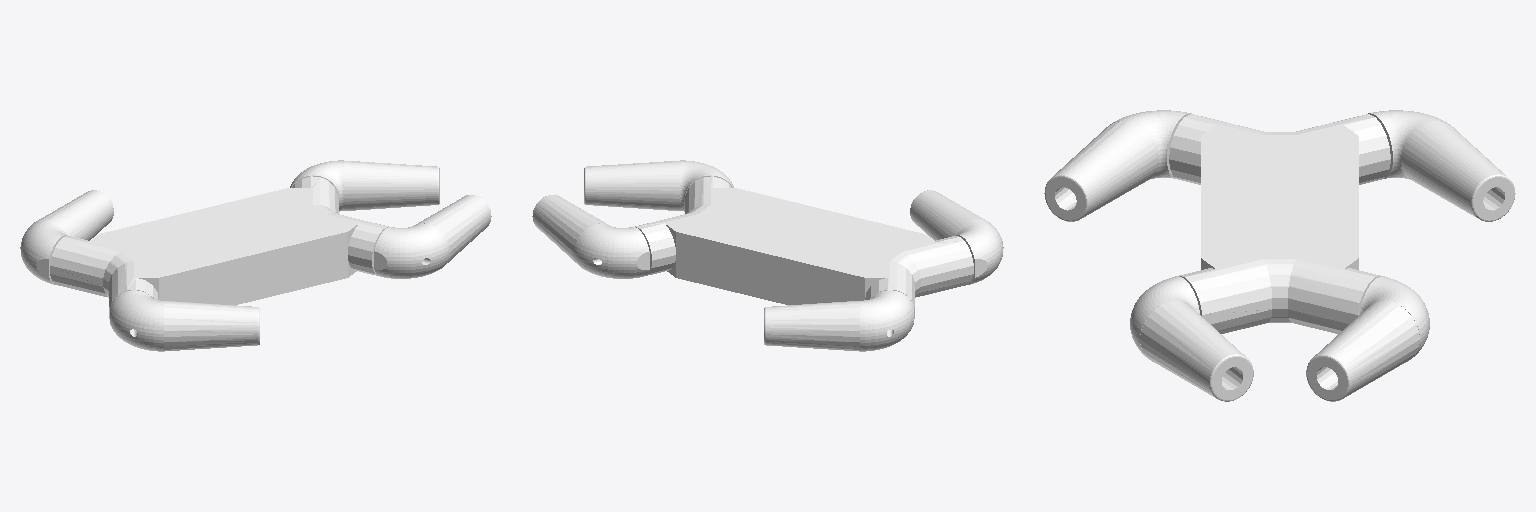
URDF robot description (30_degree):
<?xml version="1.0" encoding="utf-8"?>
<!-- This URDF was automatically created by SolidWorks to URDF Exporter! Originally created by [author] ([email redacted]) 
     Commit Version: 1.5.1-0-g916b5db  Build Version: 1.5.7152.31018
     For more information, please see http://wiki.ros.org/sw_urdf_exporter -->
<robot
  name="30_degree">
  <link
    name="base_link">
    <inertial>
      <origin
        xyz="-6.245E-17 5.4293E-08 1.6547E-08"
        rpy="0 0 0" />
      <mass
        value="2.942" />
      <inertia
        ixx="0.0092249"
        ixy="7.0243E-09"
        ixz="-1.5154E-10"
        iyy="0.0495397"
        iyz="7.3486E-19"
        izz="0.0563174" />
    </inertial>
    <visual>
      <origin
        xyz="0 0 0"
        rpy="0 0 0" />
      <geometry>
        <mesh
          filename="package://30_degree/meshes/base_link.STL" />
      </geometry>
      <material
        name="">
        <color
          rgba="1 1 1 1" />
      </material>
    </visual>
    <collision>
      <origin
        xyz="0 0 0"
        rpy="0 0 0" />
      <geometry>
        <mesh
          filename="package://30_degree/meshes/base_link.STL" />
      </geometry>
    </collision>
  </link>
  <link
    name="left_front_link">
    <inertial>
      <origin
        xyz="-8.8303E-08 0.056834 -0.03601"
        rpy="0 0 0" />
      <mass
        value="0.092" />
      <inertia
        ixx="0.0002604"
        ixy="5.2575E-10"
        ixz="2.3875E-10"
        iyy="0.0000526"
        iyz="2.27E-05"
        izz="0.0002575" />
    </inertial>
    <visual>
      <origin
        xyz="0 0 0"
        rpy="0 0 0" />
      <geometry>
        <mesh
          filename="package://30_degree/meshes/left_front_link.STL" />
      </geometry>
      <material
        name="">
        <color
          rgba="1 1 1 1" />
      </material>
    </visual>
    <collision>
      <origin
        xyz="0 0 0"
        rpy="0 0 0" />
      <geometry>
        <mesh
          filename="package://30_degree/meshes/left_front_link.STL" />
      </geometry>
    </collision>
  </link>
  <joint
    name="left_front_leg"
    type="continuous">
    <origin
      xyz="0.1815 0.089201 0"
      rpy="2.0944 1.5708 0" />
    <parent
      link="base_link" />
    <child
      link="left_front_link" />
    <axis
      xyz="0 0 -1" />
    <limit
      effort="5"
      velocity="487" />
  </joint>
  <link
    name="right_front_link">
    <inertial>
      <origin
        xyz="8.8303E-08 0.056834 0.03601"
        rpy="0 0 0" />
      <mass
        value="0.092" />
      <inertia
        ixx="0.0002604"
        ixy="-5.2575E-10"
        ixz="2.3875E-10"
        iyy="0.0000526"
        iyz="-2.27E-05"
        izz="0.0002575" />
    </inertial>
    <visual>
      <origin
        xyz="0 0 0"
        rpy="0 0 0" />
      <geometry>
        <mesh
          filename="package://30_degree/meshes/right_front_link.STL" />
      </geometry>
      <material
        name="">
        <color
          rgba="1 1 1 1" />
      </material>
    </visual>
    <collision>
      <origin
        xyz="0 0 0"
        rpy="0 0 0" />
      <geometry>
        <mesh
          filename="package://30_degree/meshes/right_front_link.STL" />
      </geometry>
    </collision>
  </link>
  <joint
    name="right_front_leg"
    type="continuous">
    <origin
      xyz="0.1815 -0.089201 0"
      rpy="1.0472 1.5708 0" />
    <parent
      link="base_link" />
    <child
      link="right_front_link" />
    <axis
      xyz="0 0 1" />
    <limit
      effort="5"
      velocity="487" />
  </joint>
  <link
    name="right_back_link">
    <inertial>
      <origin
        xyz="8.1005E-08 0.056834 0.03601"
        rpy="0 0 0" />
      <mass
        value="0.092" />
      <inertia
        ixx="0.0002604"
        ixy="-5.043E-10"
        ixz="1.5614E-10"
        iyy="0.0000526"
        iyz="-2.27E-05"
        izz="0.0002575" />
    </inertial>
    <visual>
      <origin
        xyz="0 0 0"
        rpy="0 0 0" />
      <geometry>
        <mesh
          filename="package://30_degree/meshes/right_back_link.STL" />
      </geometry>
      <material
        name="">
        <color
          rgba="1 1 1 1" />
      </material>
    </visual>
    <collision>
      <origin
        xyz="0 0 0"
        rpy="0 0 0" />
      <geometry>
        <mesh
          filename="package://30_degree/meshes/right_back_link.STL" />
      </geometry>
    </collision>
  </link>
  <joint
    name="right_back_leg"
    type="continuous">
    <origin
      xyz="-0.1815 -0.089201 0"
      rpy="2.0944 1.5708 0" />
    <parent
      link="base_link" />
    <child
      link="right_back_link" />
    <axis
      xyz="0 0 1" />
    <limit
      effort="5"
      velocity="487" />
  </joint>
  <link
    name="left_back_link">
    <inertial>
      <origin
        xyz="-8.1005E-08 0.056834 -0.03601"
        rpy="0 0 0" />
      <mass
        value="0.092" />
      <inertia
        ixx="0.0002604"
        ixy="5.043E-10"
        ixz="1.5614E-10"
        iyy="0.0000526"
        iyz="2.27E-05"
        izz="0.0002575" />
    </inertial>
    <visual>
      <origin
        xyz="0 0 0"
        rpy="0 0 0" />
      <geometry>
        <mesh
          filename="package://30_degree/meshes/left_back_link.STL" />
      </geometry>
      <material
        name="">
        <color
          rgba="1 1 1 1" />
      </material>
    </visual>
    <collision>
      <origin
        xyz="0 0 0"
        rpy="0 0 0" />
      <geometry>
        <mesh
          filename="package://30_degree/meshes/left_back_link.STL" />
      </geometry>
    </collision>
  </link>
  <joint
    name="left_back_leg"
    type="continuous">
    <origin
      xyz="-0.1815 0.089201 0"
      rpy="1.0472 1.5708 0" />
    <parent
      link="base_link" />
    <child
      link="left_back_link" />
    <axis
      xyz="0 0 -1" />
    <limit
      effort="5"
      velocity="487" />
  </joint>
</robot>

--- Facts derived from the render (not from the file) ---
The picture shows the robot from 3 angles, left to right: view 1: azimuth 30°, elevation 25°; view 2: azimuth 150°, elevation 25°; view 3: azimuth 270°, elevation 25°; orthographic projection.
Robot: 30_degree — 5 links, 4 joints (4 continuous); root link base_link; default pose: every joint at zero.
Visible links, largest first — view 1: base_link, right_back_link, right_front_link, left_front_link, left_back_link; view 2: base_link, left_back_link, left_front_link, right_front_link, right_back_link; view 3: base_link, left_front_link, right_front_link, right_back_link, left_back_link.
Boxes of the visible links, <box> form: base_link: <box>50,176,388,318</box>; right_back_link: <box>110,290,259,351</box>; right_front_link: <box>374,195,491,278</box>; left_front_link: <box>290,160,439,211</box>; left_back_link: <box>20,190,113,284</box>; base_link: <box>635,176,973,318</box>; left_back_link: <box>764,290,913,351</box>; left_front_link: <box>532,195,649,278</box>; right_front_link: <box>584,160,733,211</box>; right_back_link: <box>910,190,1003,284</box>; base_link: <box>1169,114,1390,333</box>; left_front_link: <box>1306,276,1429,401</box>; right_front_link: <box>1130,276,1253,401</box>; right_back_link: <box>1044,110,1191,221</box>; left_back_link: <box>1368,110,1515,221</box>.
Size in the robot's own frame: 0.5694 by 0.4464 by 0.064 metres.
5 mesh visuals loaded from 5 distinct referenced files (5 binary STL).